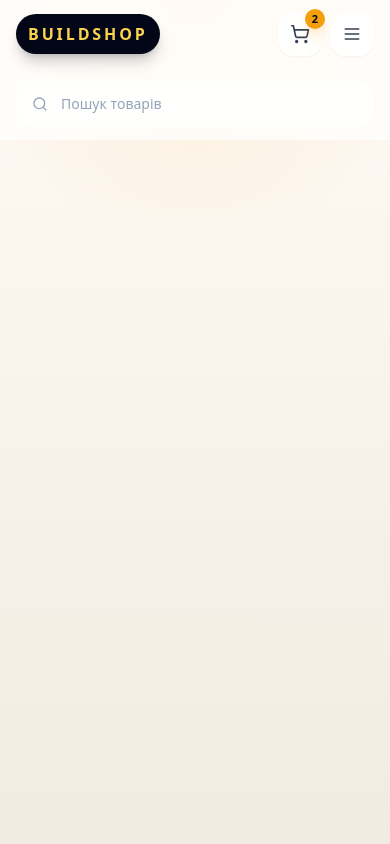
Scenario: Header mobile navigation › shows profile and backoffice links in the mobile menu for authenticated staff
Click the button named "Відкрити меню": point(352, 34) [330,12,374,56]
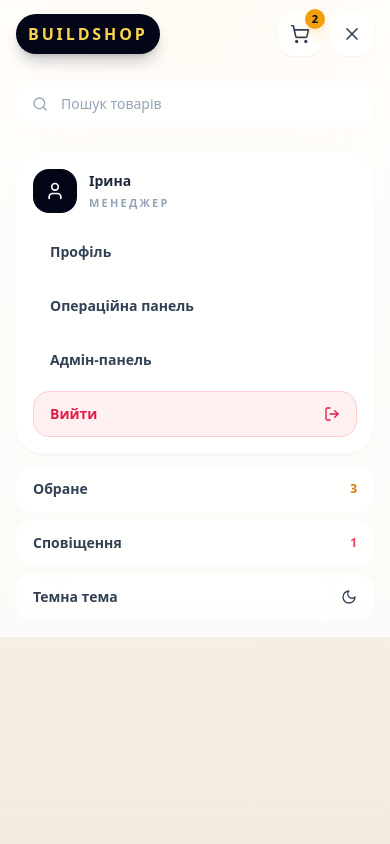
Now the link "Профіль" is shown, box [33,229,357,275]
